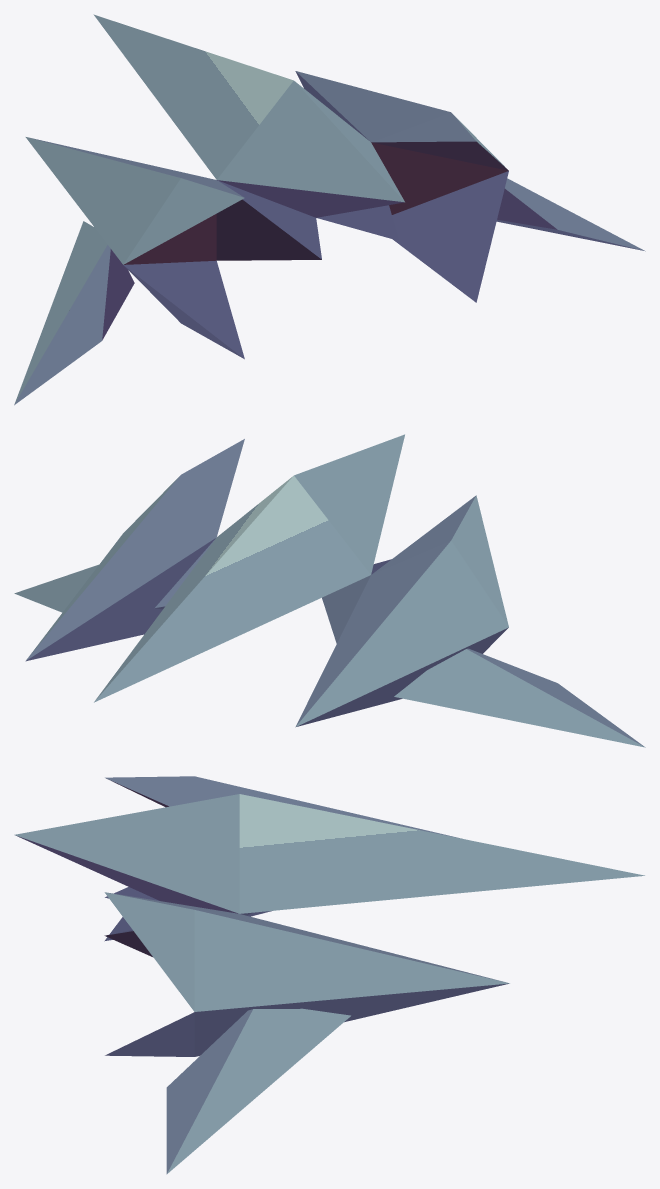
The model's file is PlayerShip.glb.
The picture shows the model from 3 angles, top to bottom: view 1: azimuth 30°, elevation 25°; view 2: azimuth 150°, elevation 25°; view 3: azimuth 270°, elevation 25°; orthographic projection.
Parts seen in each view (by area): view 1: Plane; view 2: Plane; view 3: Plane.
Part boxes in pixels (left/top/right/bottom): Plane: left=14, top=14, right=645, bottom=405; Plane: left=14, top=434, right=645, bottom=747; Plane: left=14, top=776, right=644, bottom=1174.
Size of the model in its own units: 3.28 by 1.1 by 2.8.
Materials: 1 (1 with a texture image).
